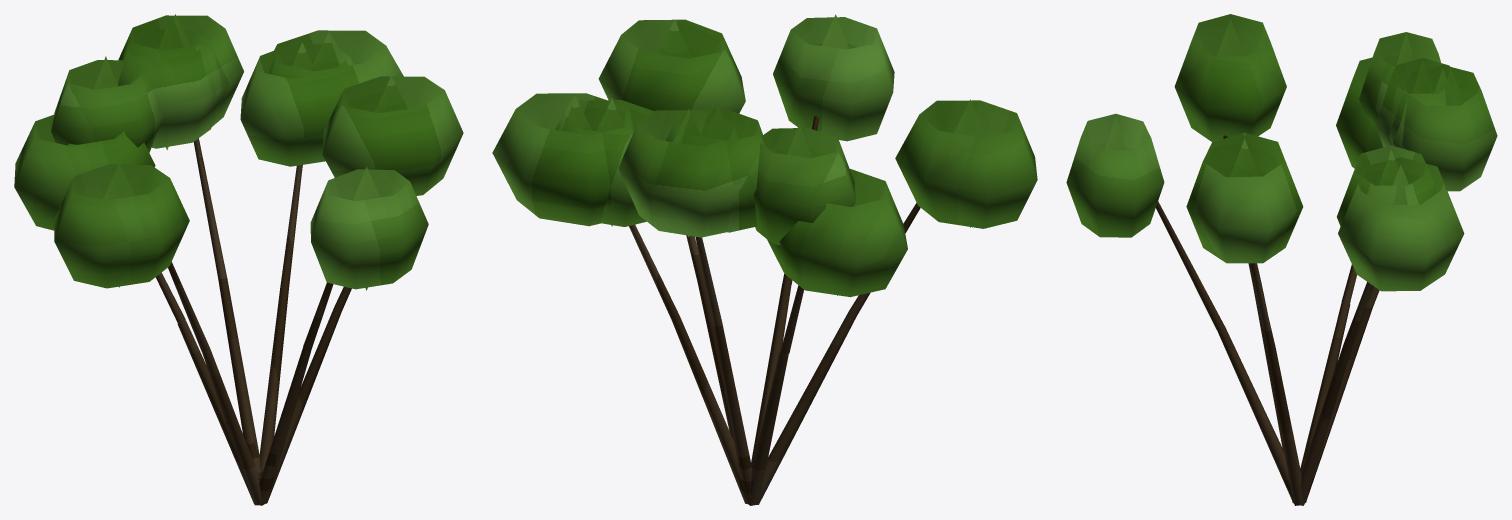
The model's file is filbert_small02-lod1.glb.
3 renders of one model, left to right at view 1: azimuth 30°, elevation 25°; view 2: azimuth 150°, elevation 25°; view 3: azimuth 270°, elevation 25°, orthographic. The views are drawn at different scales.
Parts seen in each view (by area): view 1: TZ_filbert_shrub_Batch_00_LOD1, TZ_filbert_shrub_Batch_01_LOD1; view 2: TZ_filbert_shrub_Batch_00_LOD1, TZ_filbert_shrub_Batch_01_LOD1; view 3: TZ_filbert_shrub_Batch_00_LOD1, TZ_filbert_shrub_Batch_01_LOD1.
Boxes of the visible parts, left/top/right/bottom form: TZ_filbert_shrub_Batch_00_LOD1: left=14, top=14, right=463, bottom=290; TZ_filbert_shrub_Batch_01_LOD1: left=155, top=138, right=351, bottom=505; TZ_filbert_shrub_Batch_00_LOD1: left=492, top=14, right=1037, bottom=297; TZ_filbert_shrub_Batch_01_LOD1: left=629, top=116, right=920, bottom=505; TZ_filbert_shrub_Batch_00_LOD1: left=1066, top=14, right=1497, bottom=291; TZ_filbert_shrub_Batch_01_LOD1: left=1156, top=135, right=1379, bottom=505.
Bounding box in the file's own units: 1.07 × 1.05 × 0.9528.
2 materials, 2 textured.
